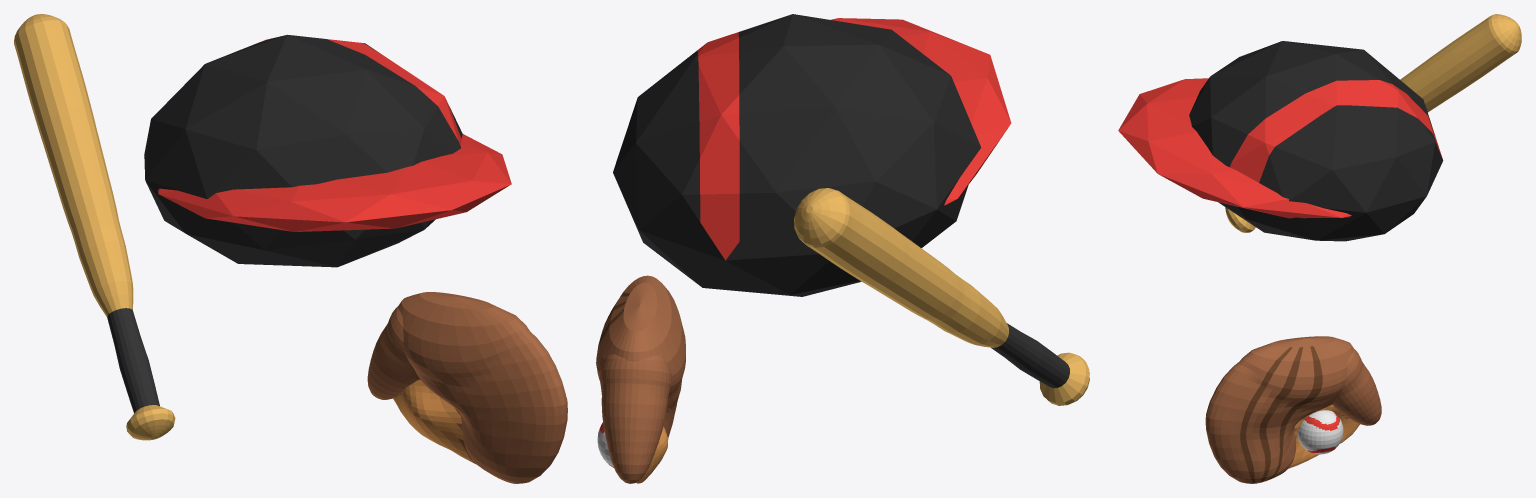
Rendered from BaseBallMan.fbx.
The picture shows the model from 3 angles, left to right: view 1: azimuth 30°, elevation 25°; view 2: azimuth 150°, elevation 25°; view 3: azimuth 270°, elevation 25°; orthographic projection. The views are drawn at different scales.
Parts seen in each view (by area): view 1: Icosphere.001, Sphere.001, Cylinder; view 2: Icosphere.001, Cylinder, Sphere.001; view 3: Icosphere.001, Sphere.001, Cylinder, Sphere.
Part boxes in pixels (box(x1,y1,x2,y2)): Icosphere.001: box(144, 34, 511, 267); Sphere.001: box(367, 292, 567, 483); Cylinder: box(14, 14, 175, 440); Icosphere.001: box(613, 14, 1011, 296); Cylinder: box(794, 188, 1089, 405); Sphere.001: box(596, 275, 685, 483); Icosphere.001: box(1118, 41, 1443, 241); Sphere.001: box(1205, 336, 1381, 483); Cylinder: box(1225, 14, 1521, 232); Sphere: box(1297, 410, 1343, 454).
Bounding box in the file's own units: 271 × 277 × 281.
